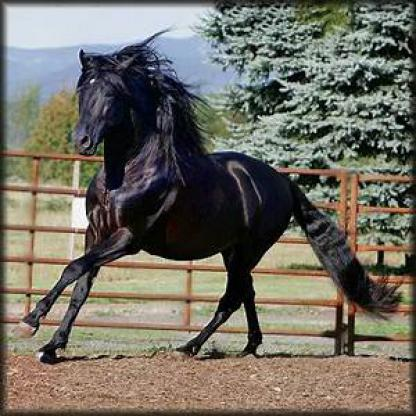horse: (14, 46, 399, 364)
